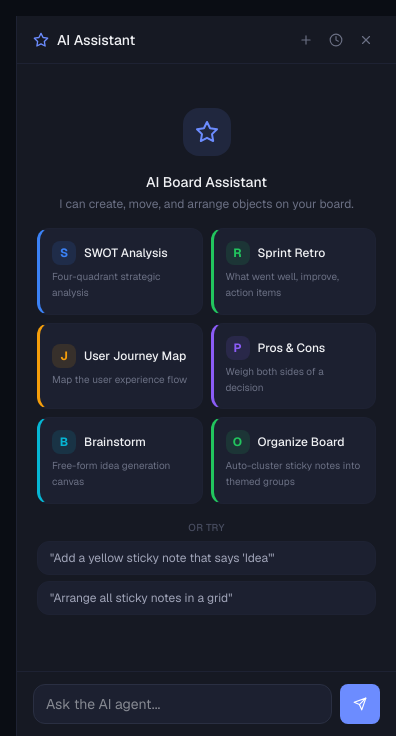
Test: AIChatPanel › shows empty history panel when history button is clicked
What coordinates should you click on to do the following:
click the button titled "Chat history"
I would click on:
 (336, 40)
Its box is [322,26,350,54].
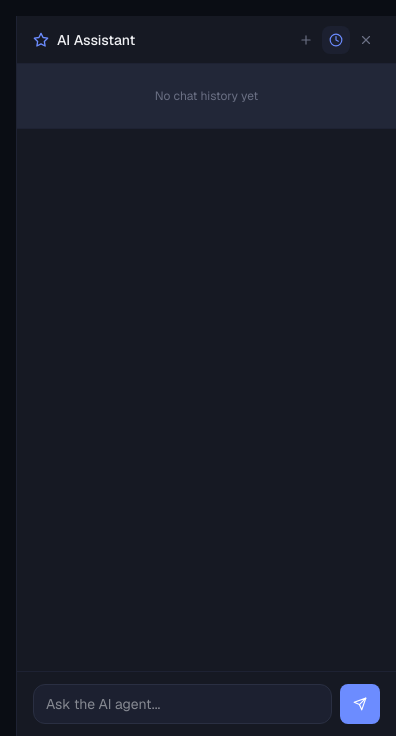
Result: the text "No chat history yet" is shown at [155,88,258,104]
